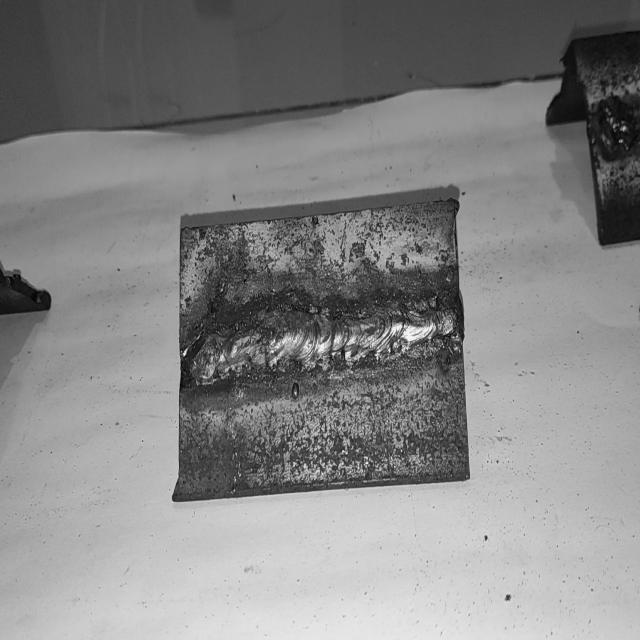Defect: (181, 307, 272, 388), (594, 105, 640, 156)
Welding Line: (182, 294, 460, 387), (584, 92, 640, 156)
Workpiece: (175, 194, 472, 501), (572, 25, 640, 249)
